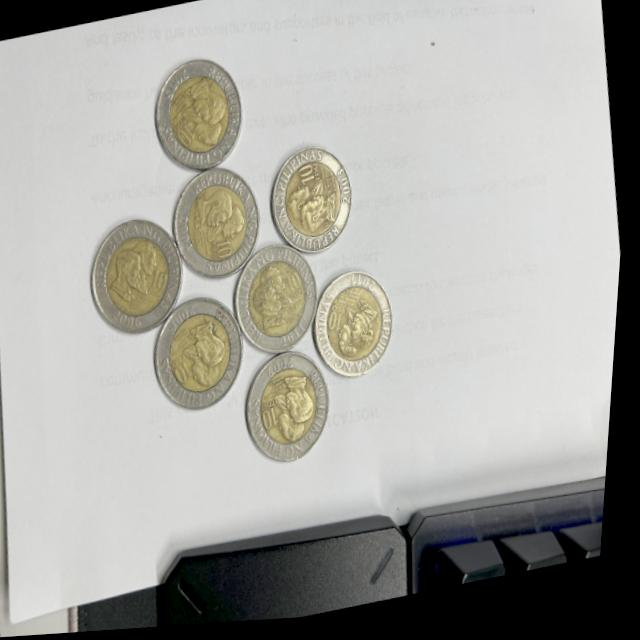10_Old_Front: (175, 362, 199, 392), (149, 271, 174, 299), (264, 409, 287, 436), (216, 236, 238, 263), (178, 124, 198, 151), (286, 275, 307, 300), (298, 164, 318, 189), (330, 311, 347, 340)
